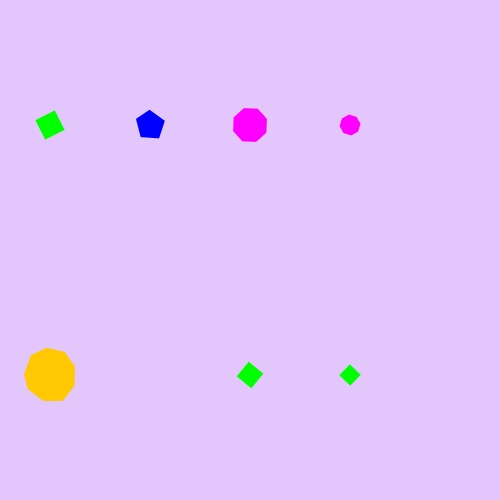nonagon: (19, 346, 81, 405)
octagon: (228, 103, 272, 147), (335, 110, 365, 140)
pentagon: (132, 107, 169, 144)
quadrilateral: (31, 106, 69, 144), (233, 358, 267, 392), (335, 360, 365, 390)
